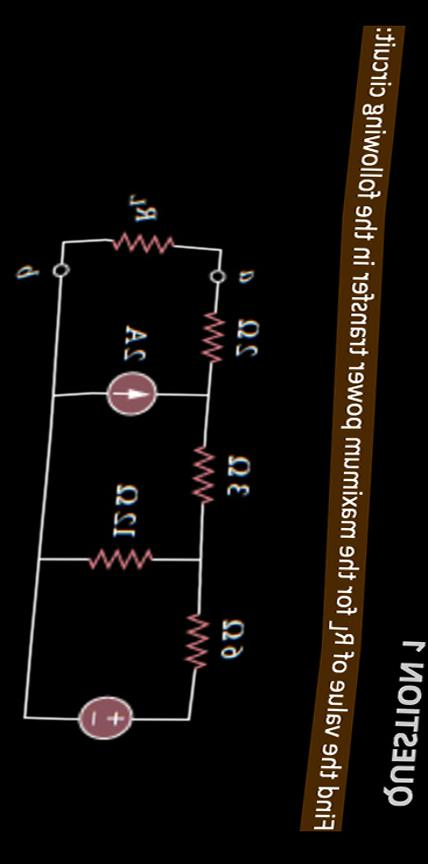Battery: (63, 666, 152, 767)
